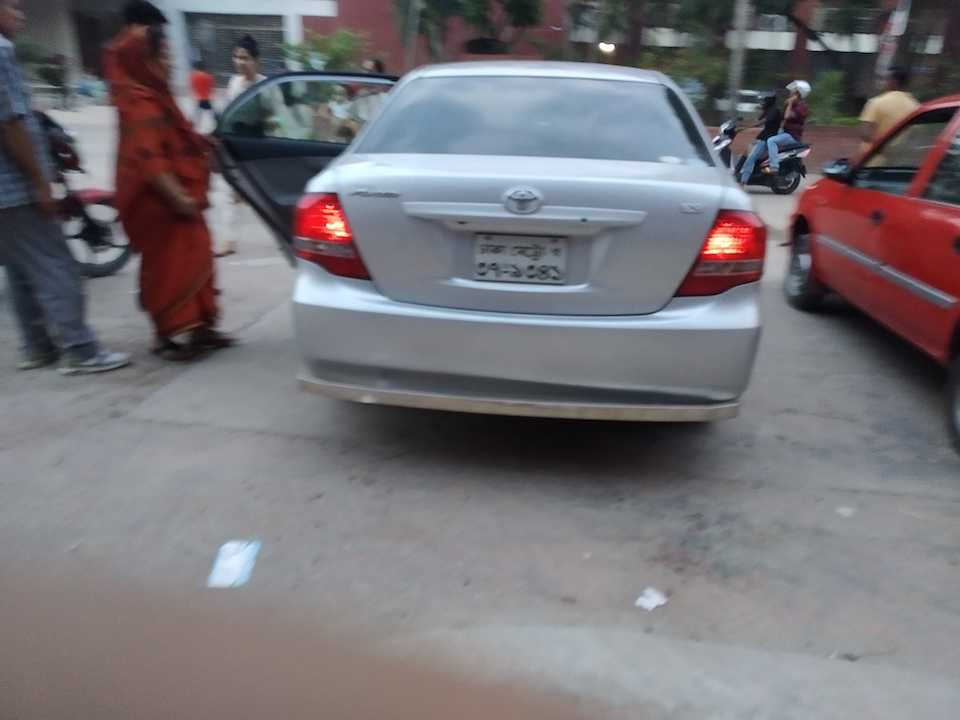registration_plate: (471, 232, 569, 285)
